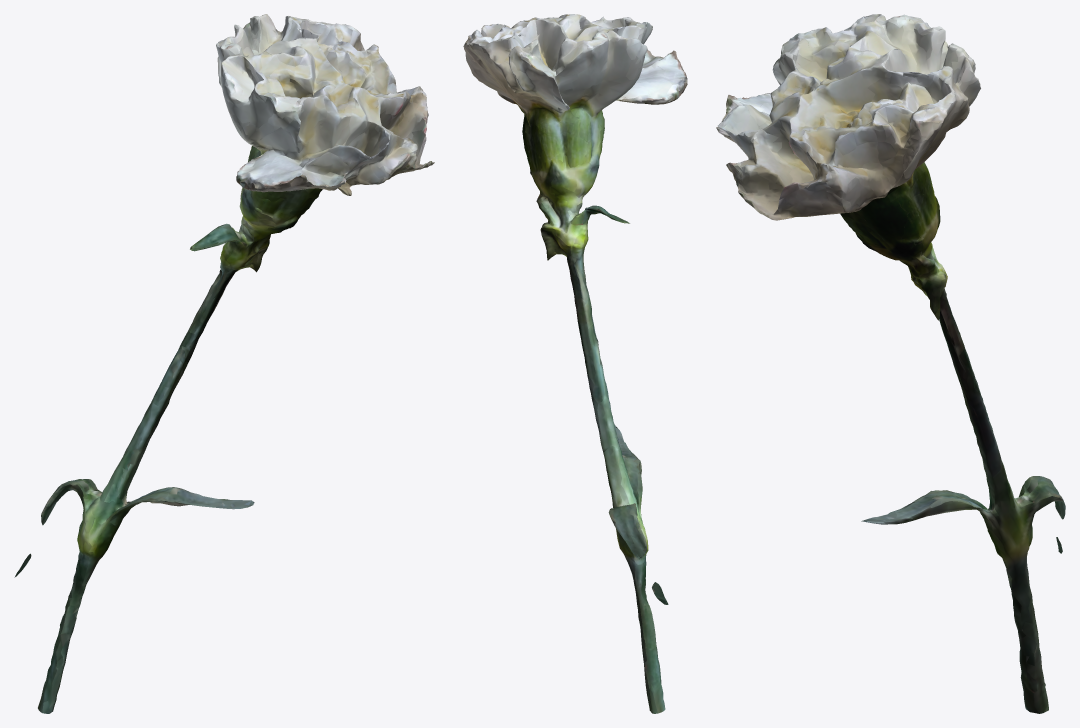
The model's file is sala2-pieza3.glb.
3 views of the same model, side by side, from view 1: azimuth 30°, elevation 25°; view 2: azimuth 150°, elevation 25°; view 3: azimuth 270°, elevation 25° (orthographic). The views are drawn at different scales.
Visible parts, largest first — view 1: Object_2; view 2: Object_2; view 3: Object_2.
Boxes of the visible parts, x1,y1,x2,y2 form: Object_2: [14, 14, 434, 713]; Object_2: [463, 14, 687, 713]; Object_2: [716, 14, 1065, 713].
Bounding box in the file's own units: 0.098 × 0.2061 × 0.0855.
Materials: 1 (1 with a texture image).
